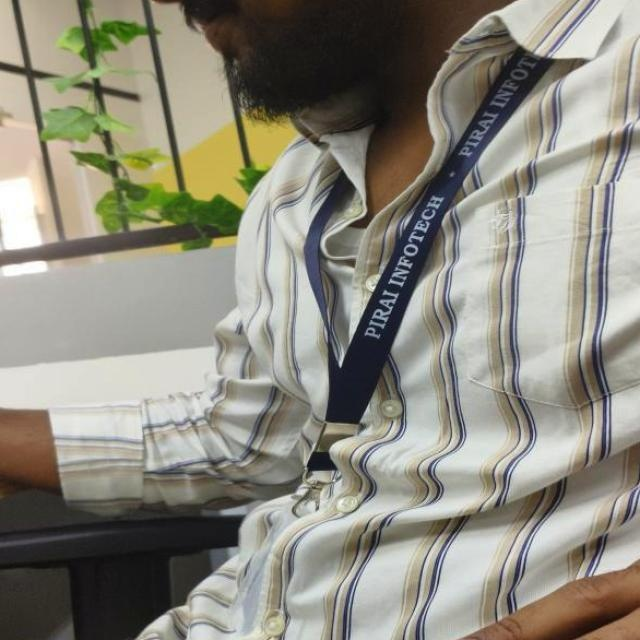ID_card: (320, 150, 454, 464)
